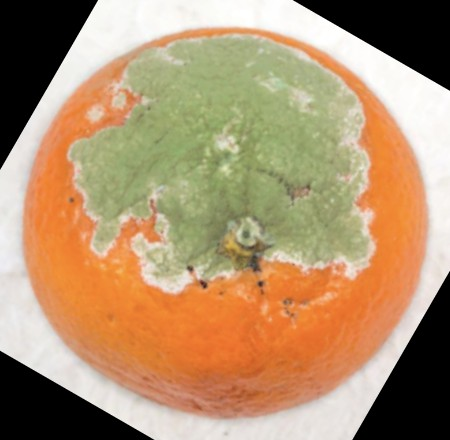rotten_orange: (24, 28, 429, 419)
